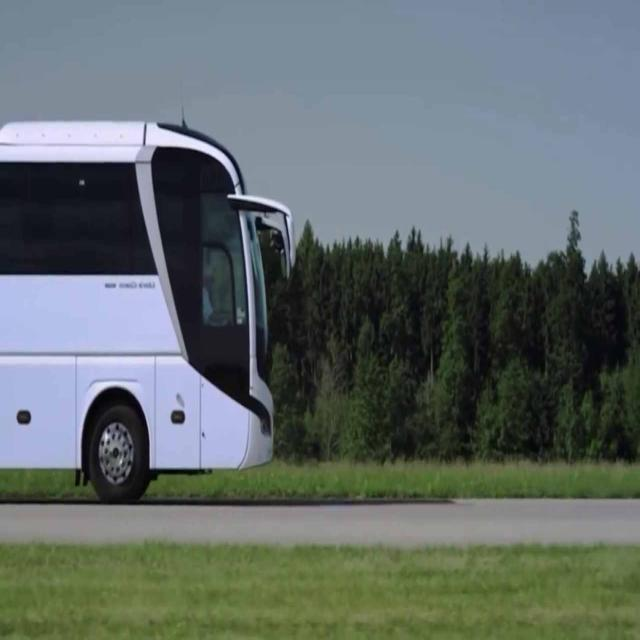bus: (0, 90, 300, 517)
